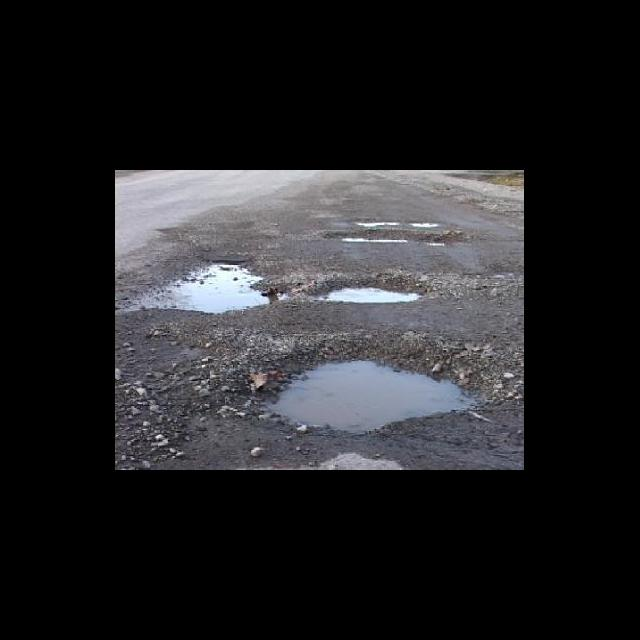lubang_kecil: (232, 338, 508, 438), (138, 244, 281, 325), (300, 265, 429, 313)
